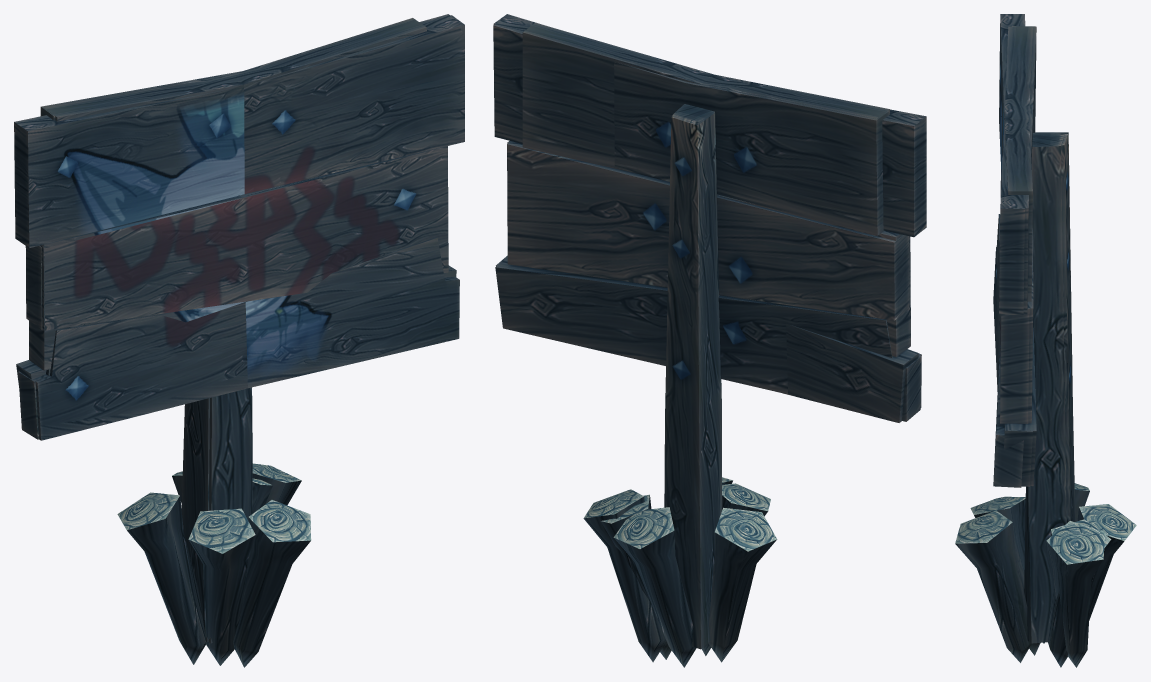
Rendered from Model_Props_Sign.FBX.
3 views of the same model, side by side, from view 1: azimuth 30°, elevation 25°; view 2: azimuth 150°, elevation 25°; view 3: azimuth 270°, elevation 25° (orthographic). The views are drawn at different scales.
Parts seen in each view (by area): view 1: Model_Props_Sign_03, Model_Props_Sign_02, Model_Props_Sign_01; view 2: Model_Props_Sign_01, Model_Props_Sign_02, Model_Props_Sign_03; view 3: Model_Props_Sign_03, Model_Props_Sign_02, Model_Props_Sign_01.
Part boxes in pixels (<box>): Model_Props_Sign_03: <box>35,15,464,665</box>; Model_Props_Sign_02: <box>14,18,459,664</box>; Model_Props_Sign_01: <box>18,14,461,667</box>; Model_Props_Sign_01: <box>493,16,921,667</box>; Model_Props_Sign_02: <box>522,22,926,662</box>; Model_Props_Sign_03: <box>493,14,921,662</box>; Model_Props_Sign_03: <box>970,26,1105,667</box>; Model_Props_Sign_02: <box>993,14,1111,667</box>; Model_Props_Sign_01: <box>955,26,1136,662</box>.
Size of the model in its own units: 87.89 by 116 by 34.62.
